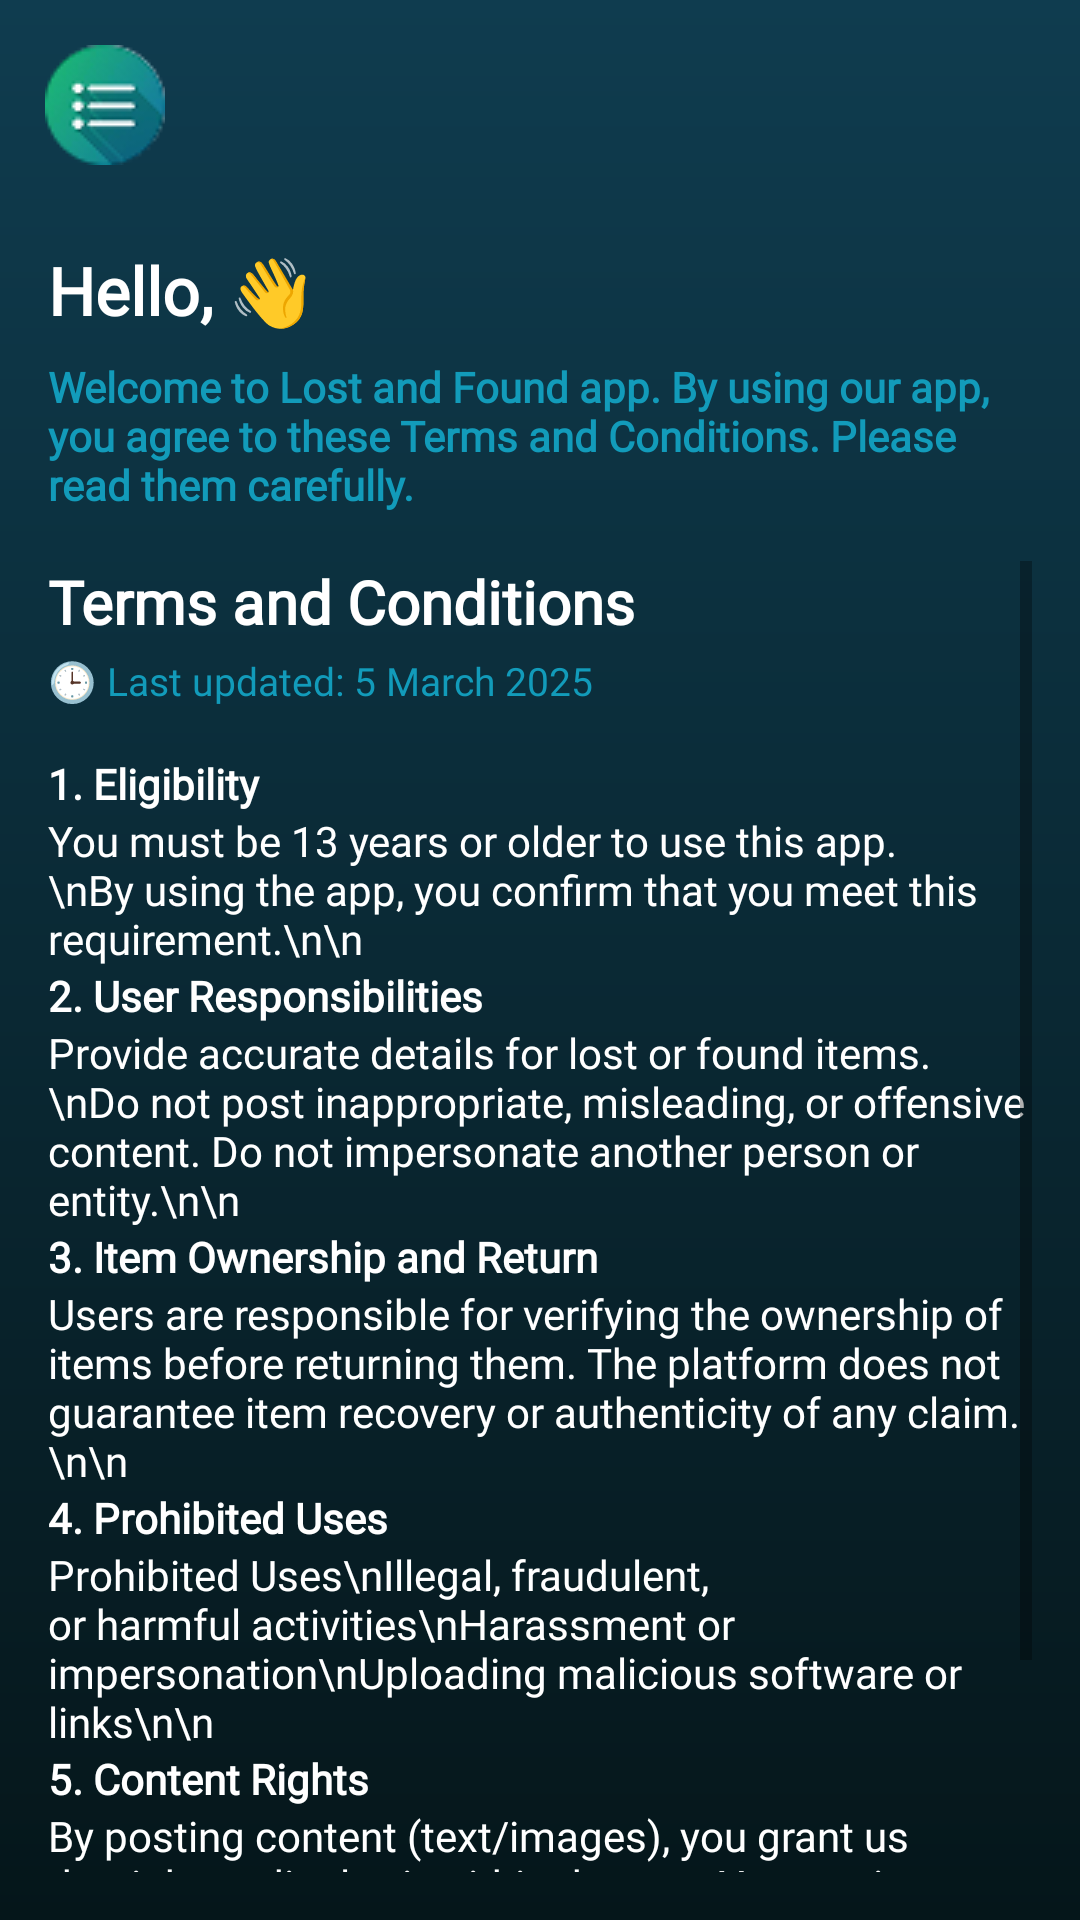

Screen size 1080×1920. Icon name, then its center in pixels as point (x, y):
Menu Options: point (105, 105)
